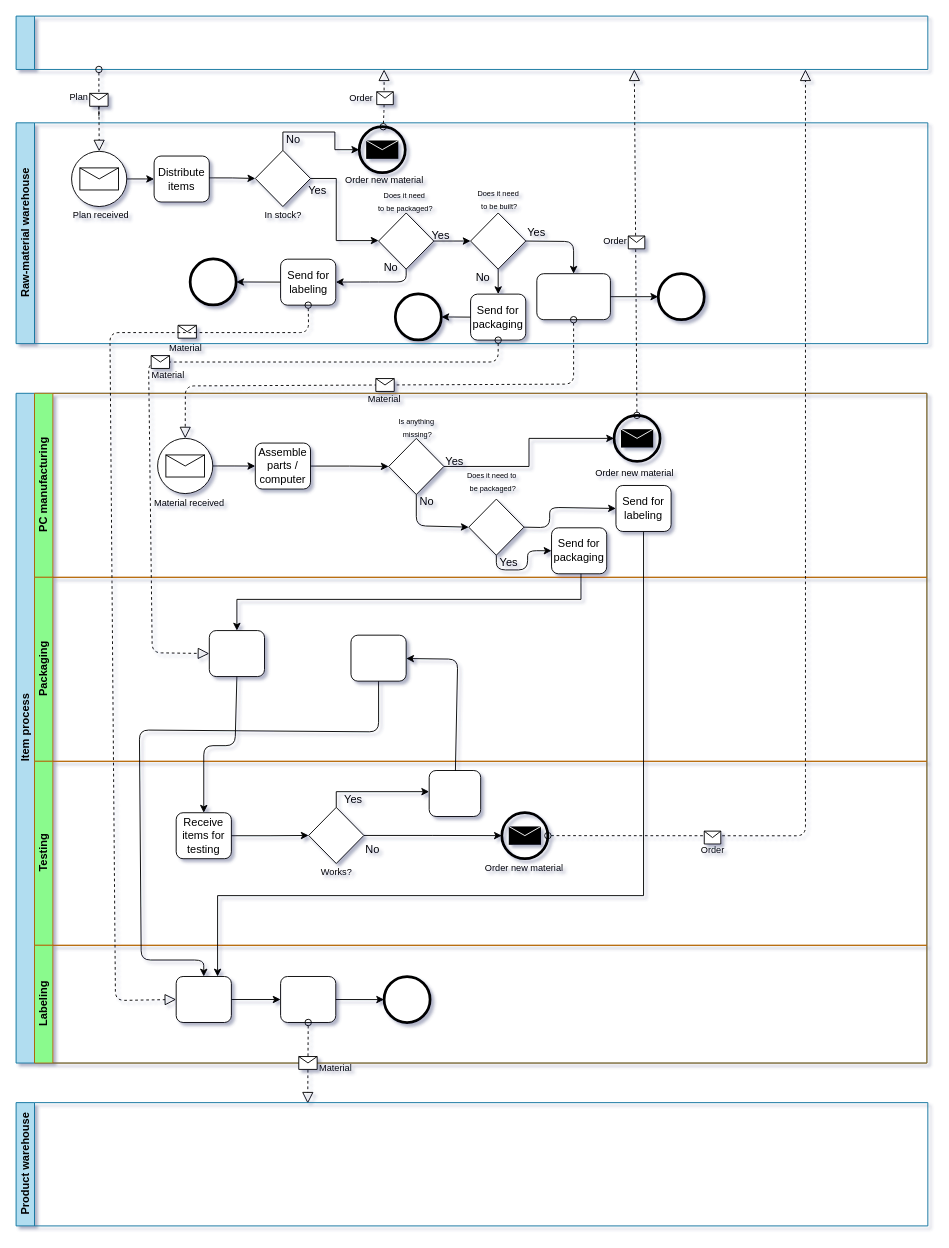
Image size: 949x1248. Some labels were removed from this diagram. The shapes that lost their labels are listed below. From the top down, each one's centre as x and y in pixels, then its label:
At (471,42): "Office".
At (573,296): "Send for manufacturing".
At (236,653): "Package items for testing".
At (378,657): "Package working items".
At (454,793): "Send working items".
At (203,999): "Label items".
At (308,999): "Send items".
